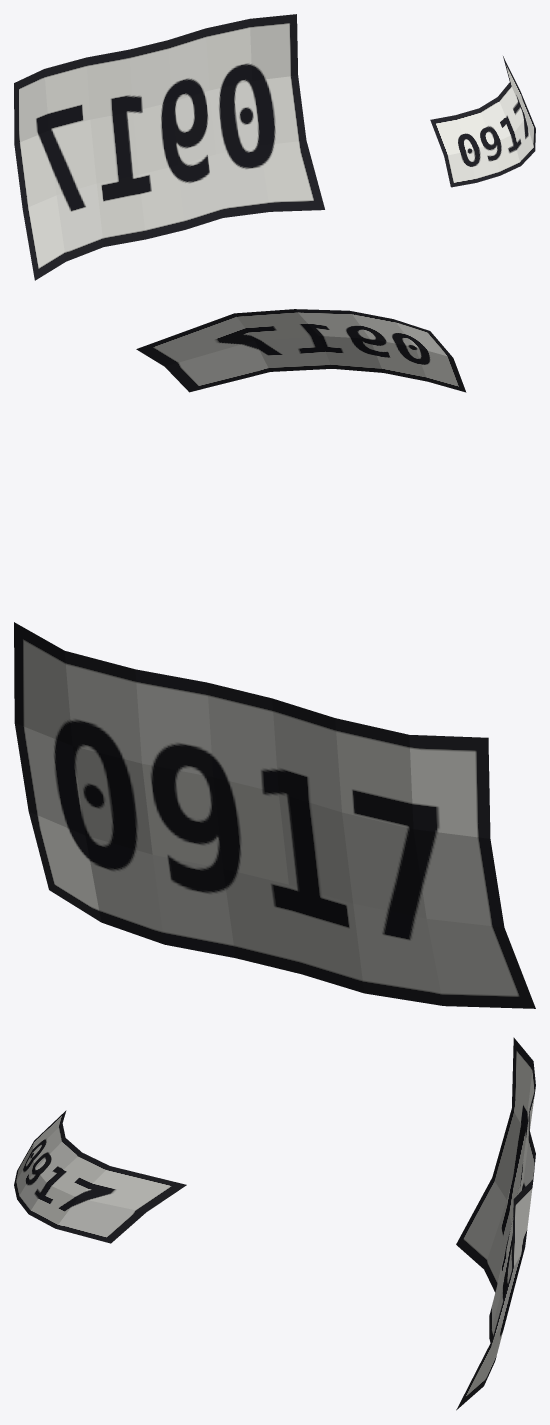
The model's file is SM_Helena_PrisonAccessories.fbx.
3 renders of one model, top to bottom at view 1: azimuth 30°, elevation 25°; view 2: azimuth 150°, elevation 25°; view 3: azimuth 270°, elevation 25°, orthographic. The views are drawn at different scales.
Parts seen in each view (by area): view 1: PrisonBack, PrisonTag; view 2: PrisonBack, PrisonTag; view 3: PrisonBack, PrisonTag.
Boxes of the visible parts, left/top/right/bottom form: PrisonBack: left=14, top=14, right=324, bottom=280; PrisonTag: left=430, top=56, right=535, bottom=187; PrisonBack: left=14, top=622, right=535, bottom=1008; PrisonTag: left=136, top=309, right=466, bottom=392; PrisonBack: left=456, top=1037, right=535, bottom=1410; PrisonTag: left=14, top=1110, right=186, bottom=1243.
Size of the model in its own units: 0.2519 by 0.1544 by 0.2745.
Materials: 1 (1 with a texture image).
